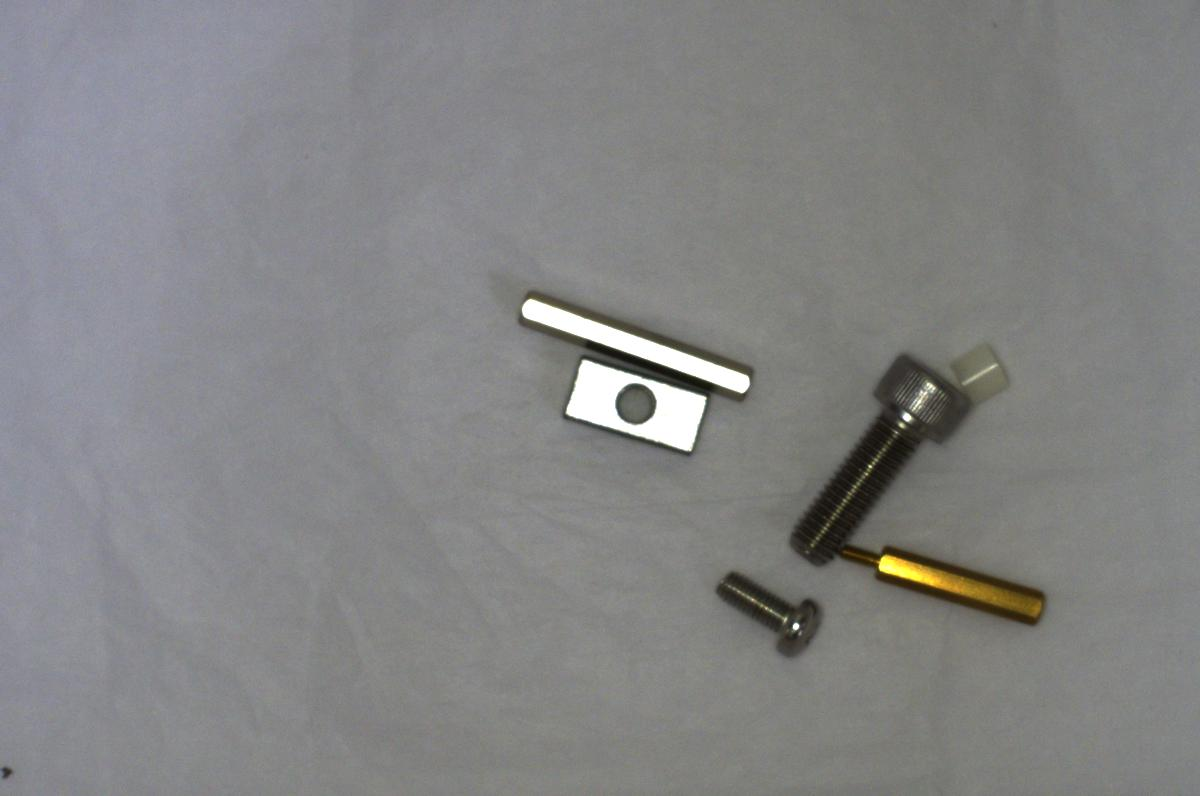Double hexagonal column: (510, 283, 764, 400)
Hexagon pillar: (840, 538, 1053, 625)
Hexagon screw: (774, 341, 977, 567)
Plastic cushion pillar: (946, 336, 1021, 413)
Rectangular nut: (555, 352, 722, 460)
Round head screw: (694, 568, 838, 659)
